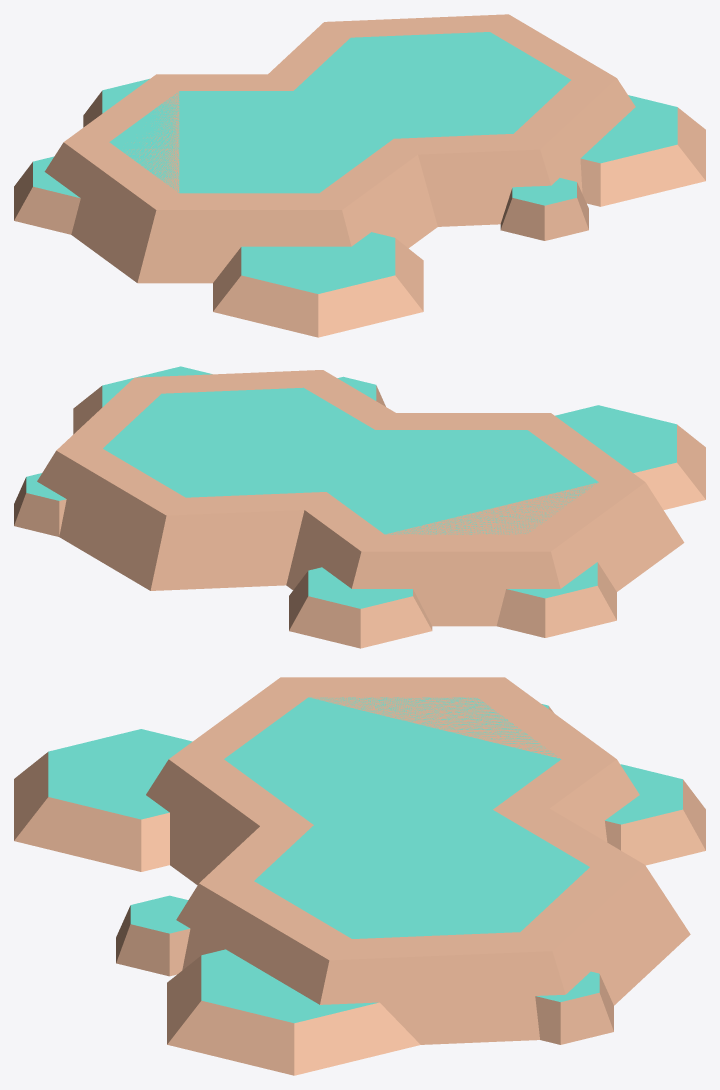
Rendered from TundraLandmass.glb.
The picture shows the model from 3 angles, top to bottom: view 1: azimuth 30°, elevation 25°; view 2: azimuth 150°, elevation 25°; view 3: azimuth 270°, elevation 25°; orthographic projection. The views are drawn at different scales.
Parts seen in each view (by area): view 1: platform_grass; view 2: platform_grass; view 3: platform_grass.
Boxes of the visible parts, box(x1,y1,x2,y2) form: platform_grass: box(14, 14, 705, 337); platform_grass: box(14, 366, 705, 648); platform_grass: box(14, 677, 705, 1075).
Bounding box in the file's own units: 0.8932 × 0.0825 × 0.724.
